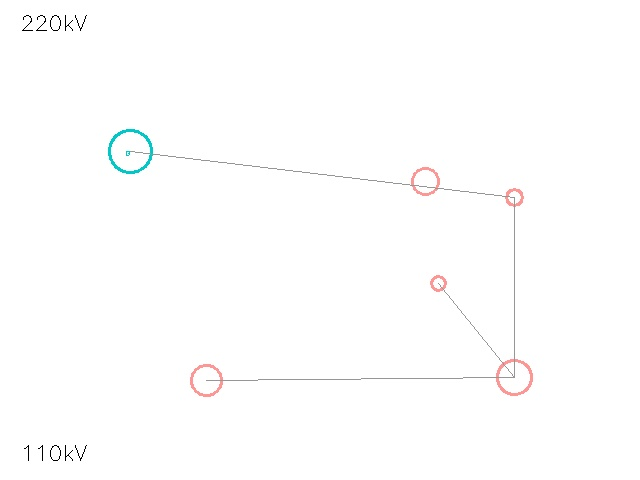current_transformer: (480, 343, 548, 411), (399, 155, 451, 207)
disconnect_switch: (175, 349, 237, 411), (423, 268, 453, 298)
fuse: (497, 180, 531, 214)
generator: (109, 130, 151, 172)
